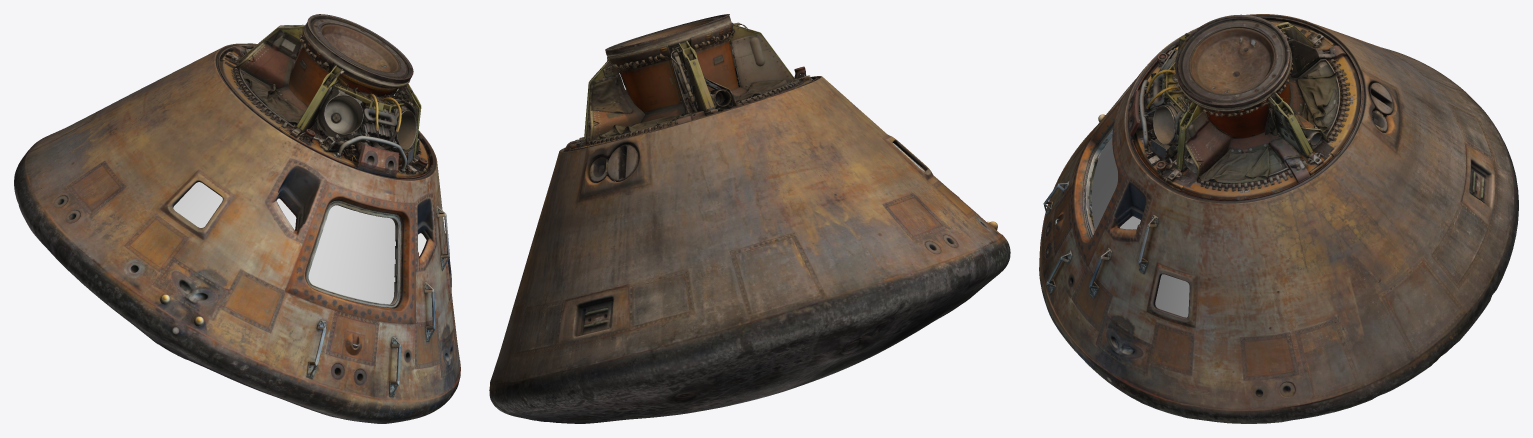
File: apollo.glb
3 views of the same model, side by side, from view 1: azimuth 30°, elevation 25°; view 2: azimuth 150°, elevation 25°; view 3: azimuth 270°, elevation 25° (orthographic). The views are drawn at different scales.
Visible parts, largest first — view 1: x3d-cm-exterior-shell-90k-uvs-150k-unwrapped, x3d-cm-exterior-top-160k-uvs-150k-unwrapped, x3d-cm-exterior-filler; view 2: x3d-cm-exterior-shell-90k-uvs-150k-unwrapped, x3d-cm-exterior-top-160k-uvs-150k-unwrapped; view 3: x3d-cm-exterior-shell-90k-uvs-150k-unwrapped, x3d-cm-exterior-top-160k-uvs-150k-unwrapped, x3d-cm-exterior-filler.
Part boxes in pixels (<box>): x3d-cm-exterior-shell-90k-uvs-150k-unwrapped: <box>14,43,460,423</box>; x3d-cm-exterior-top-160k-uvs-150k-unwrapped: <box>216,14,434,180</box>; x3d-cm-exterior-filler: <box>173,182,426,304</box>; x3d-cm-exterior-shell-90k-uvs-150k-unwrapped: <box>489,76,1010,423</box>; x3d-cm-exterior-top-160k-uvs-150k-unwrapped: <box>563,14,818,151</box>; x3d-cm-exterior-shell-90k-uvs-150k-unwrapped: <box>1039,14,1518,423</box>; x3d-cm-exterior-top-160k-uvs-150k-unwrapped: <box>1127,14,1364,203</box>; x3d-cm-exterior-filler: <box>1091,137,1189,317</box>.
Size of the model in its own units: 359 by 314 by 387.
3 materials, 2 textured.
